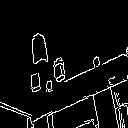cube: (27, 30, 52, 69), (50, 53, 71, 87), (24, 67, 44, 98)
